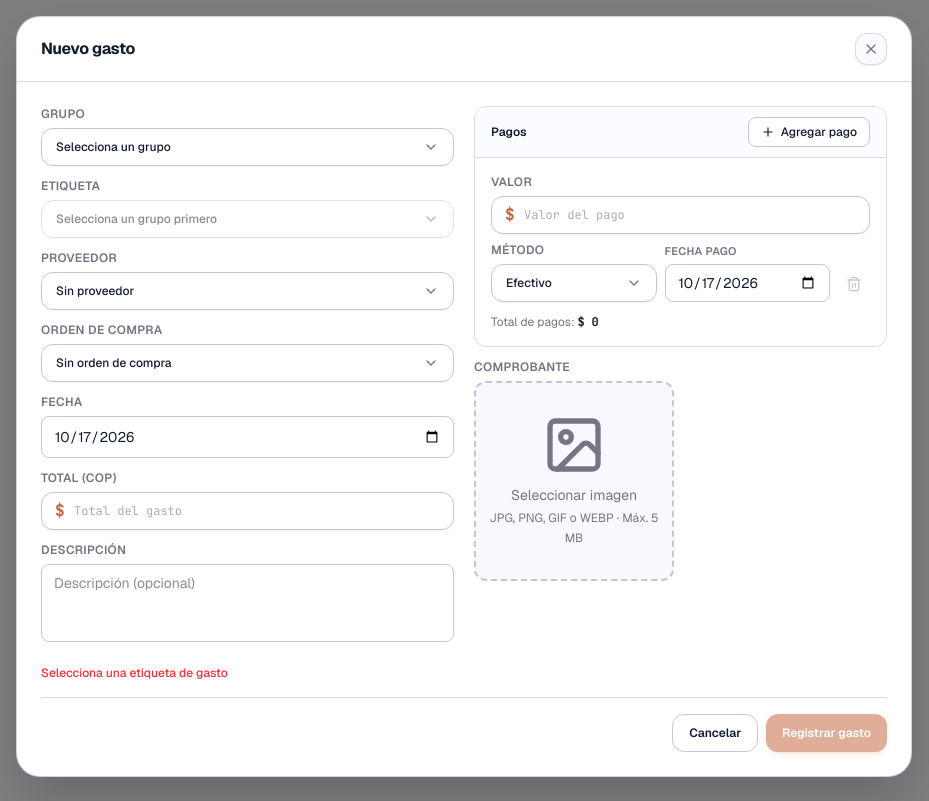
Scenario: ExpenseFormModal › filters labels by group and clears the label when the group changes
Click the button "Selecciona un grupo" at coordinates (113, 146), box [41,128,454,166]
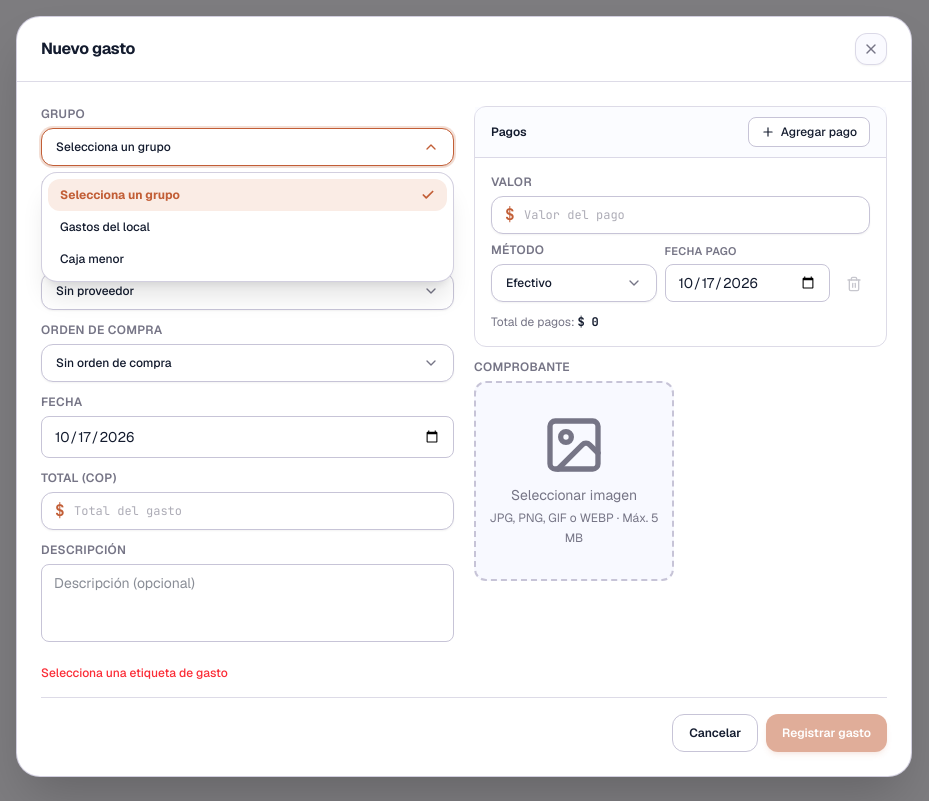
Click the text "Gastos del local" at coordinates (105, 226), box [60,218,150,234]
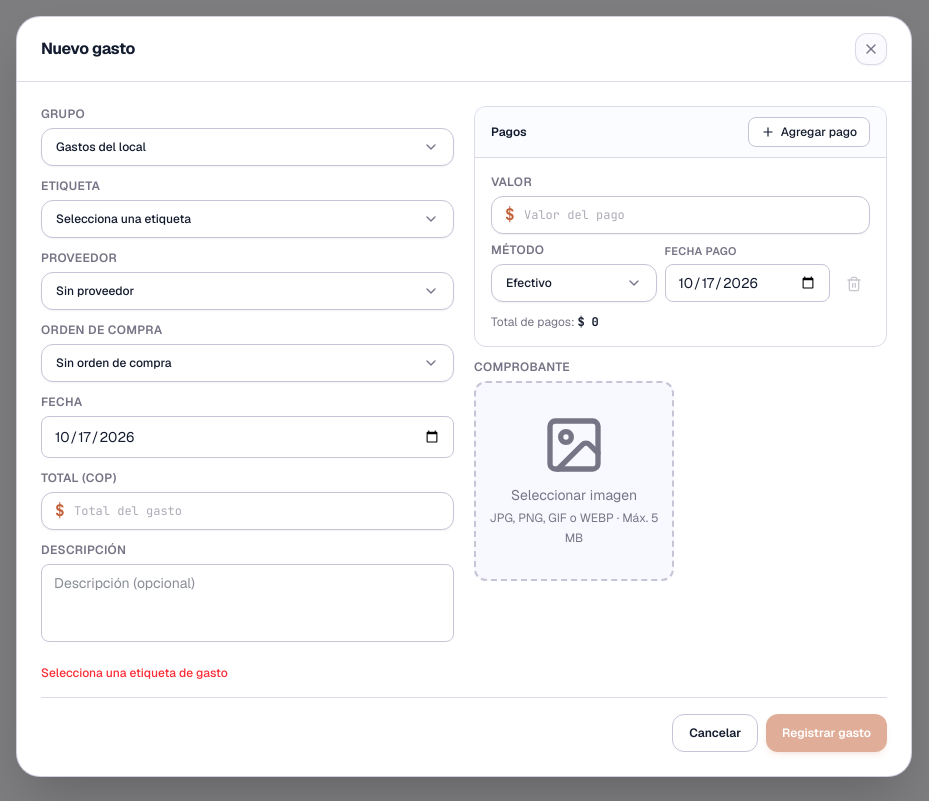
Click the button "Selecciona una etiqueta" at coordinates (124, 218), box [41,200,454,238]
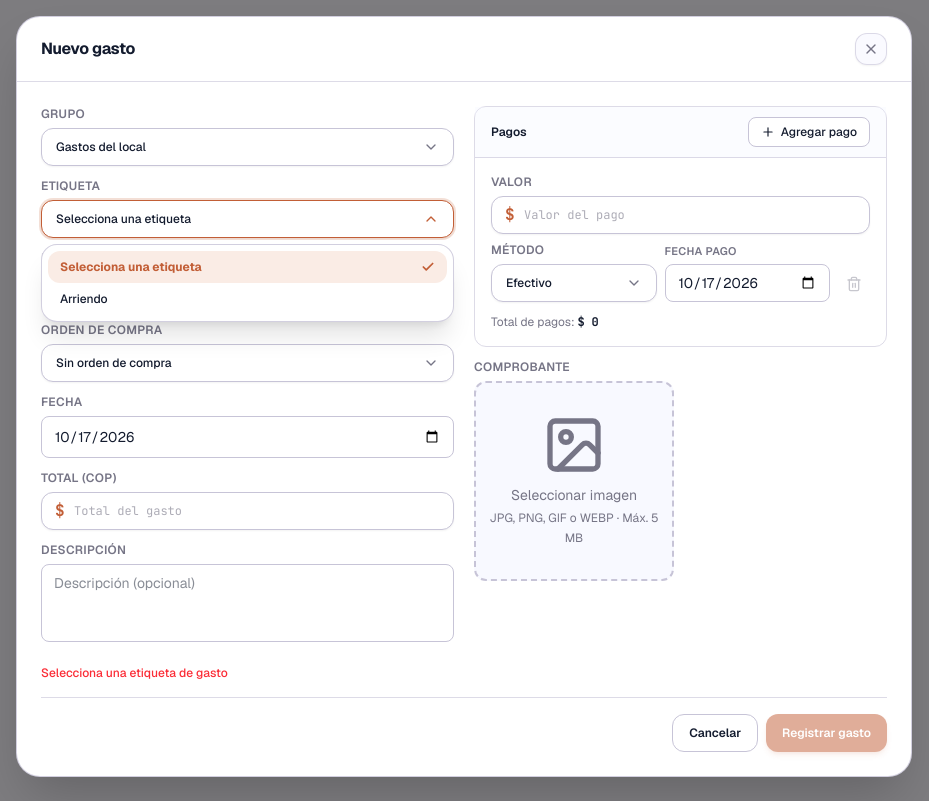
Expected: the text "Arriendo" is shown
Click the text "Arriendo" at coordinates (84, 298), box [60,290,108,306]
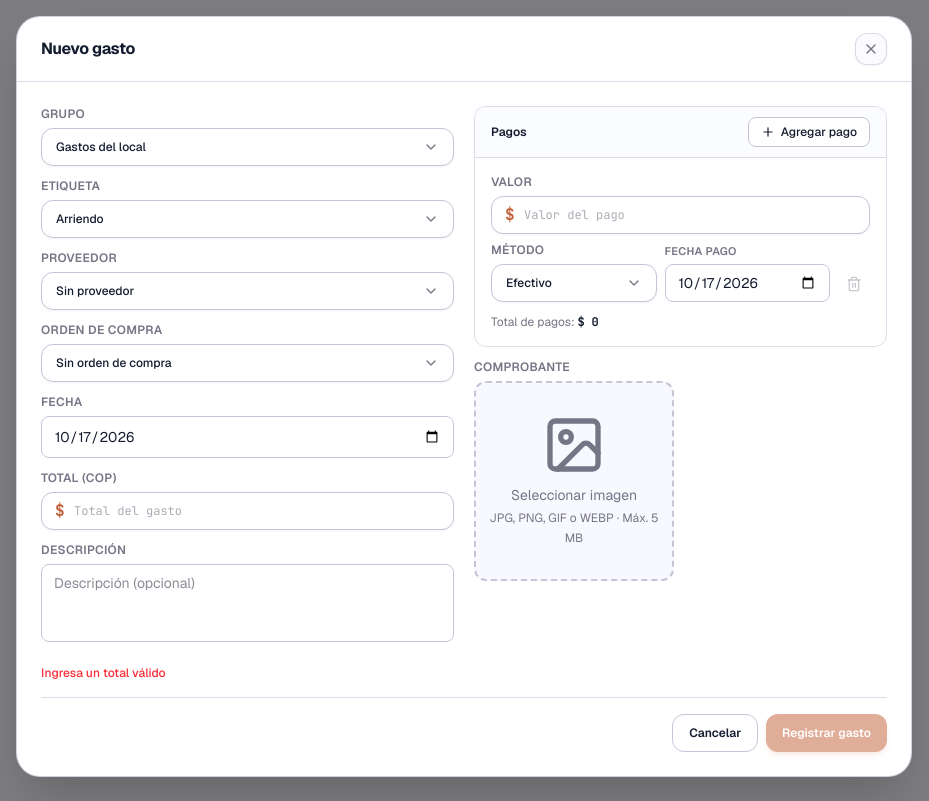
Click the button "Gastos del local" at coordinates (101, 146), box [41,128,454,166]
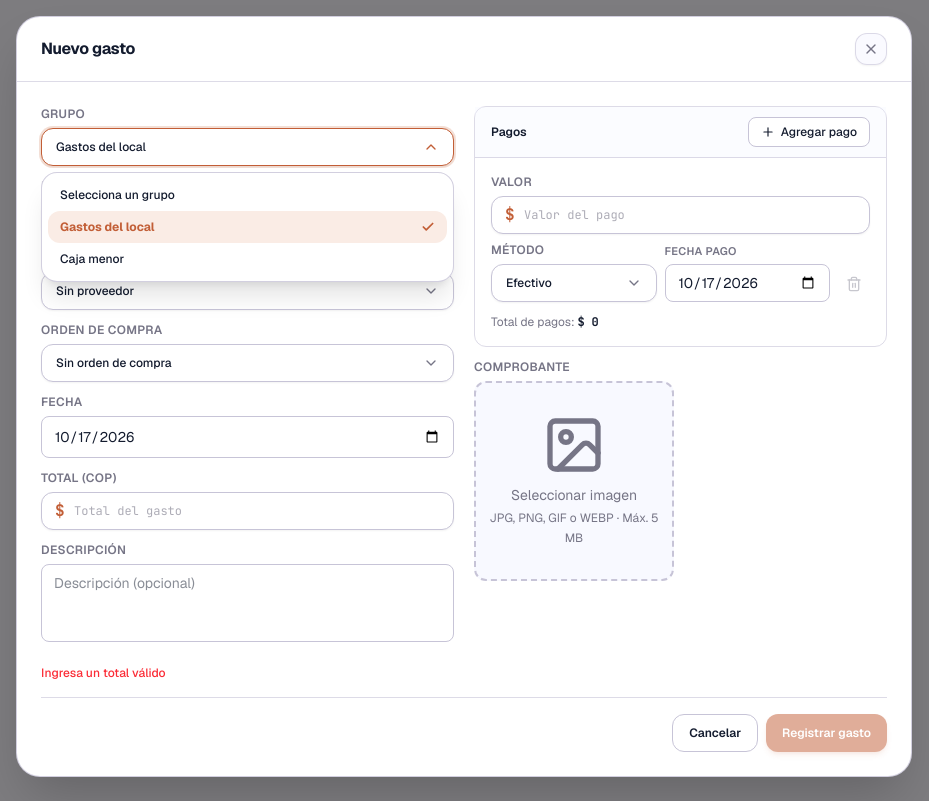
Click the text "Caja menor" at coordinates (92, 258), box [60,250,124,266]
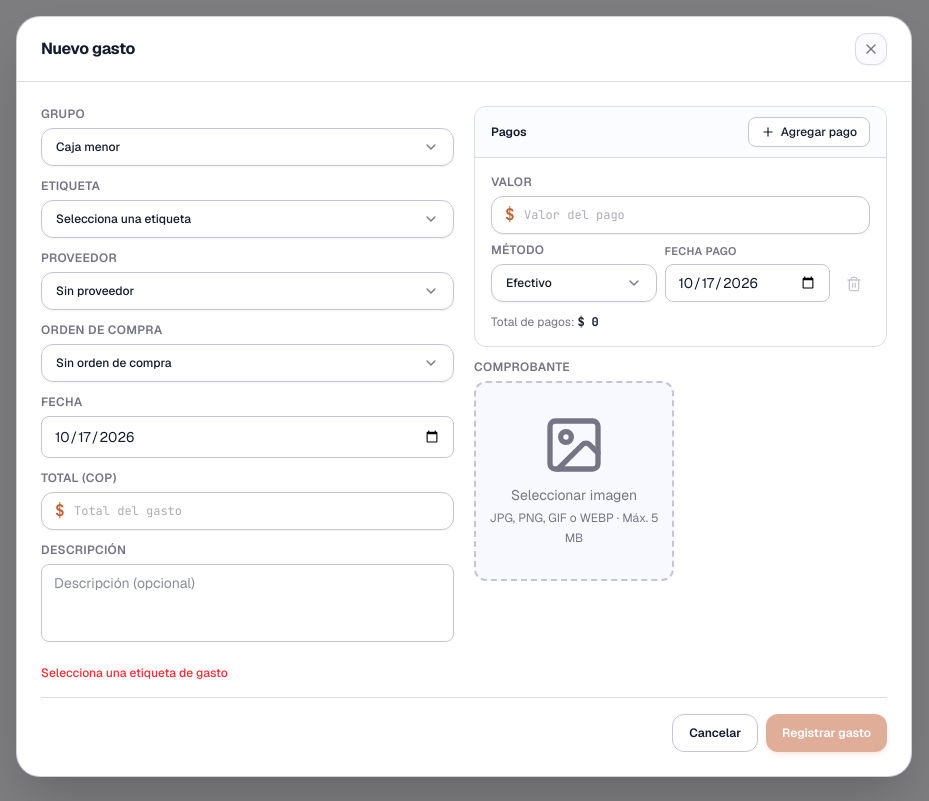
Expected: the button "Selecciona una etiqueta" is shown, [41,200,454,238]
Expected: the button "Arriendo" is gone
